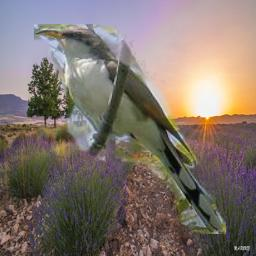Cuckoo: (34, 24, 226, 234)
